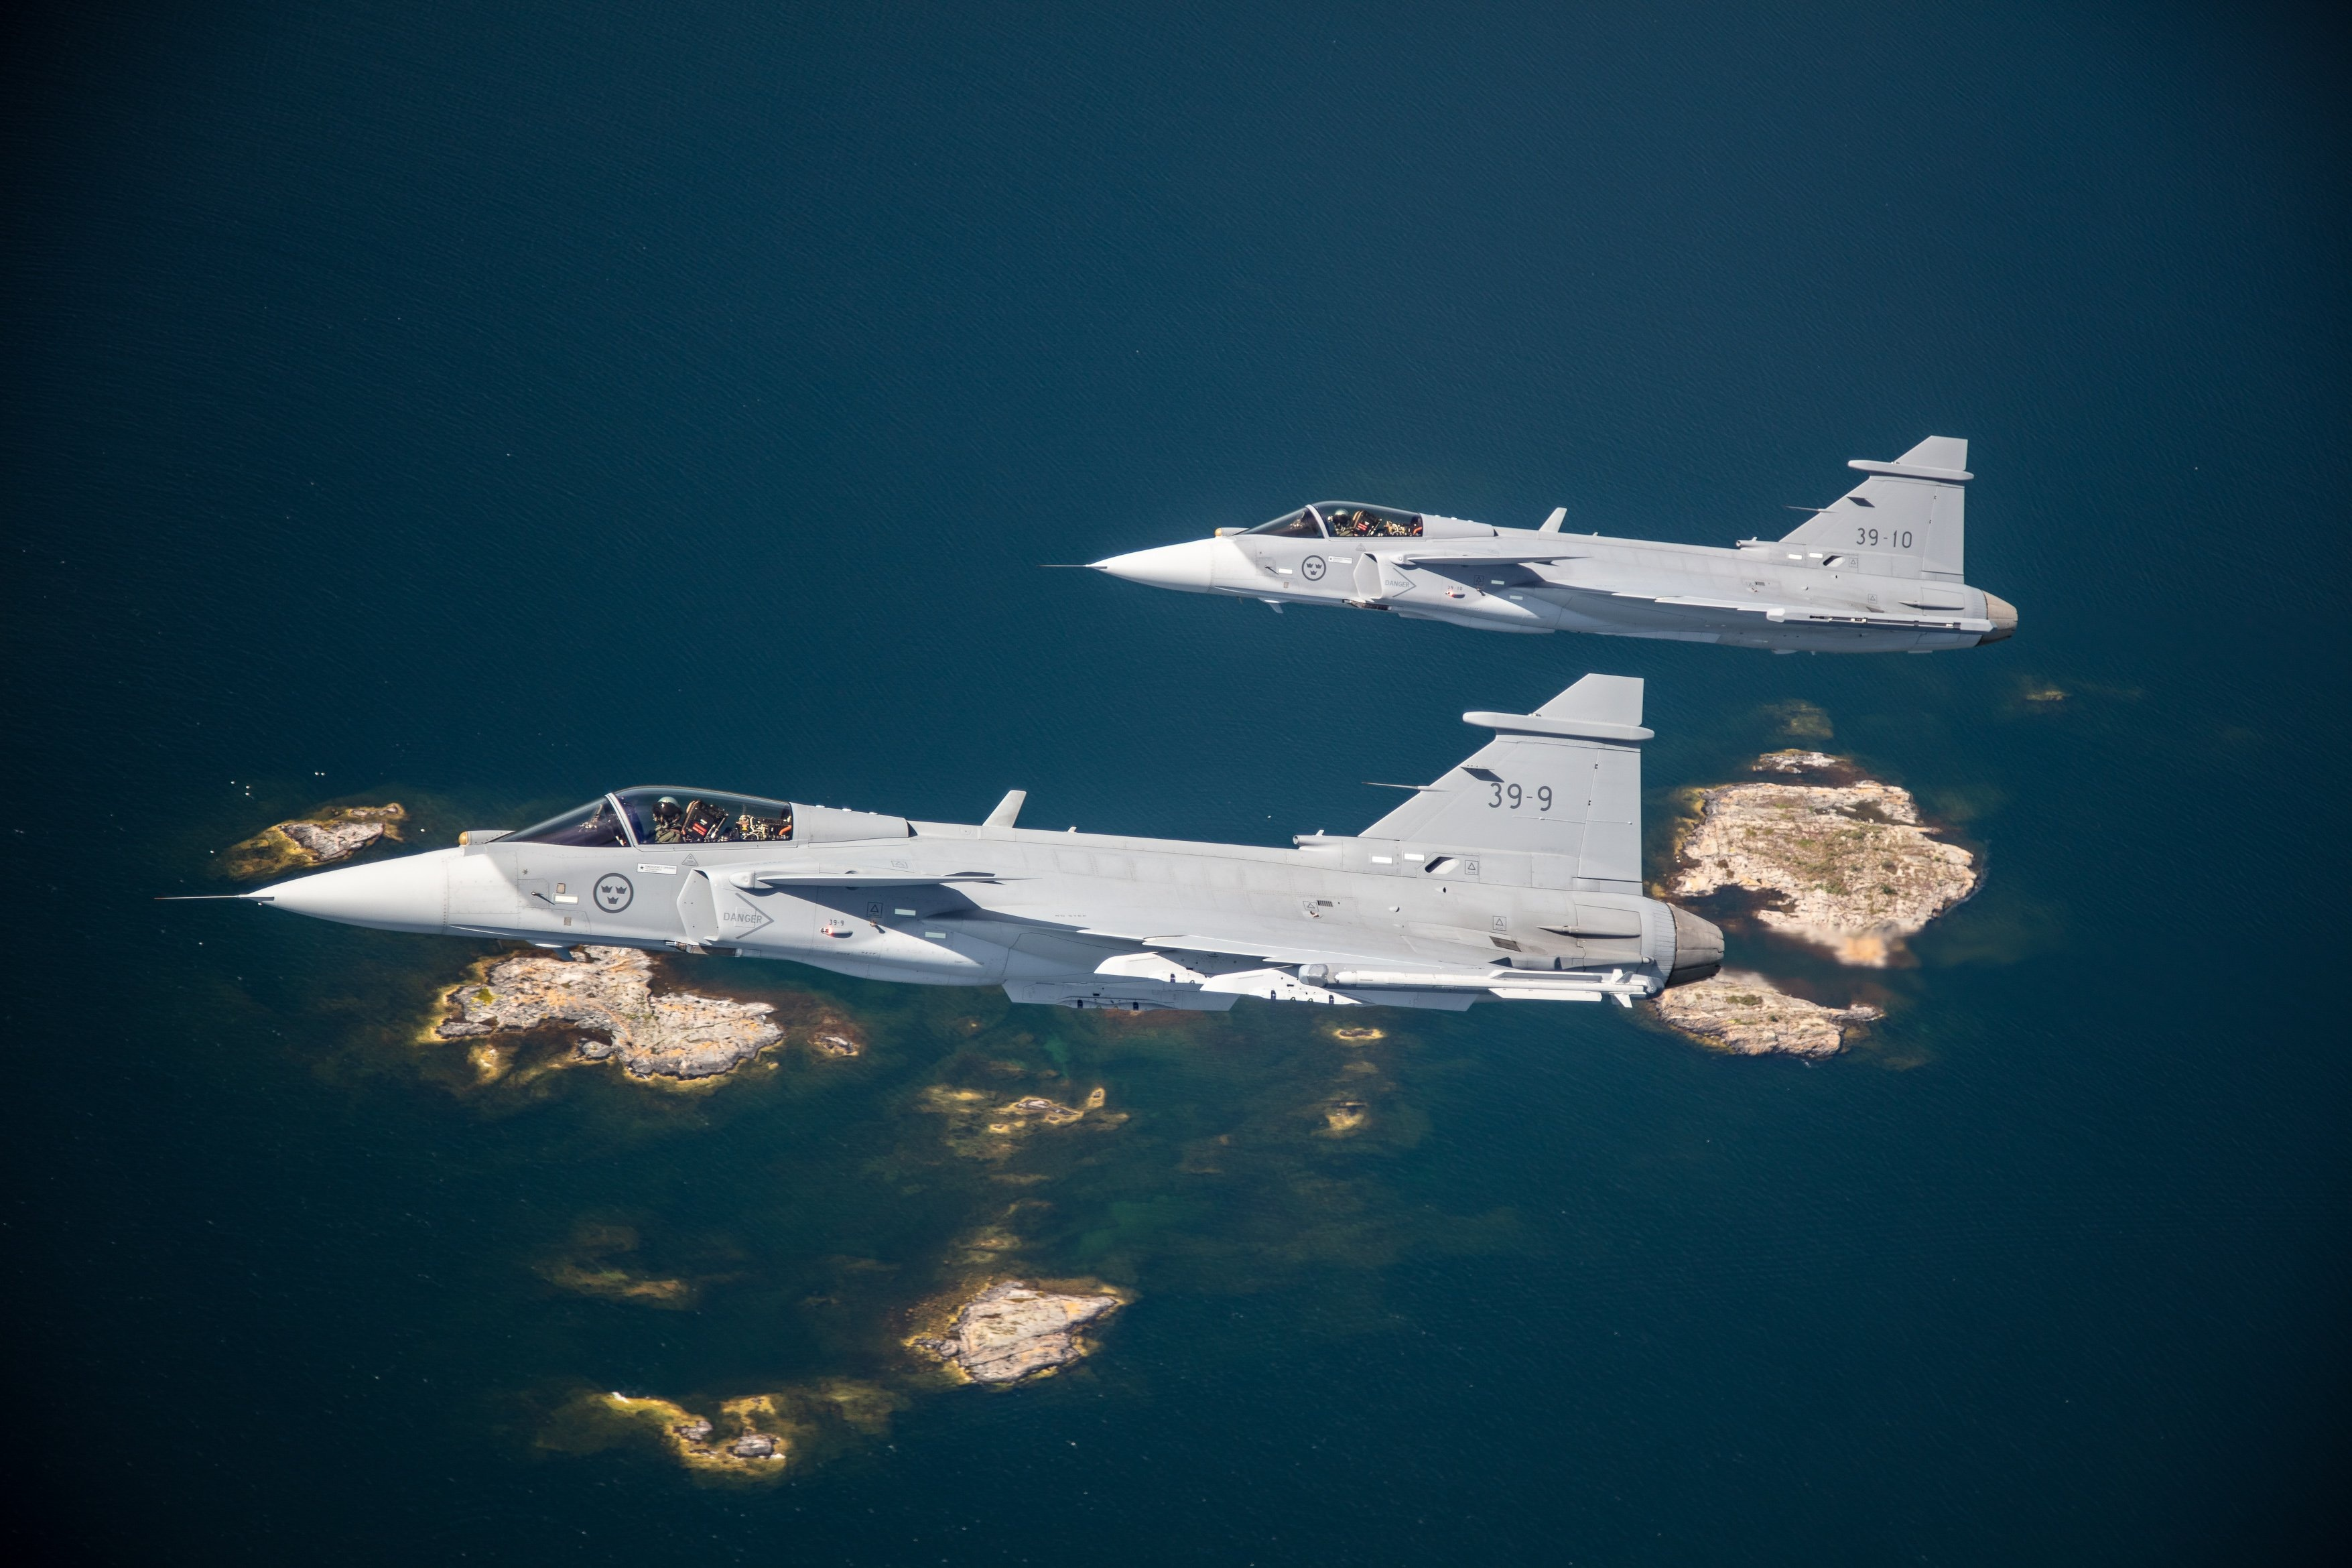JAS39: (154, 672, 1725, 1011), (1036, 436, 2018, 654)
